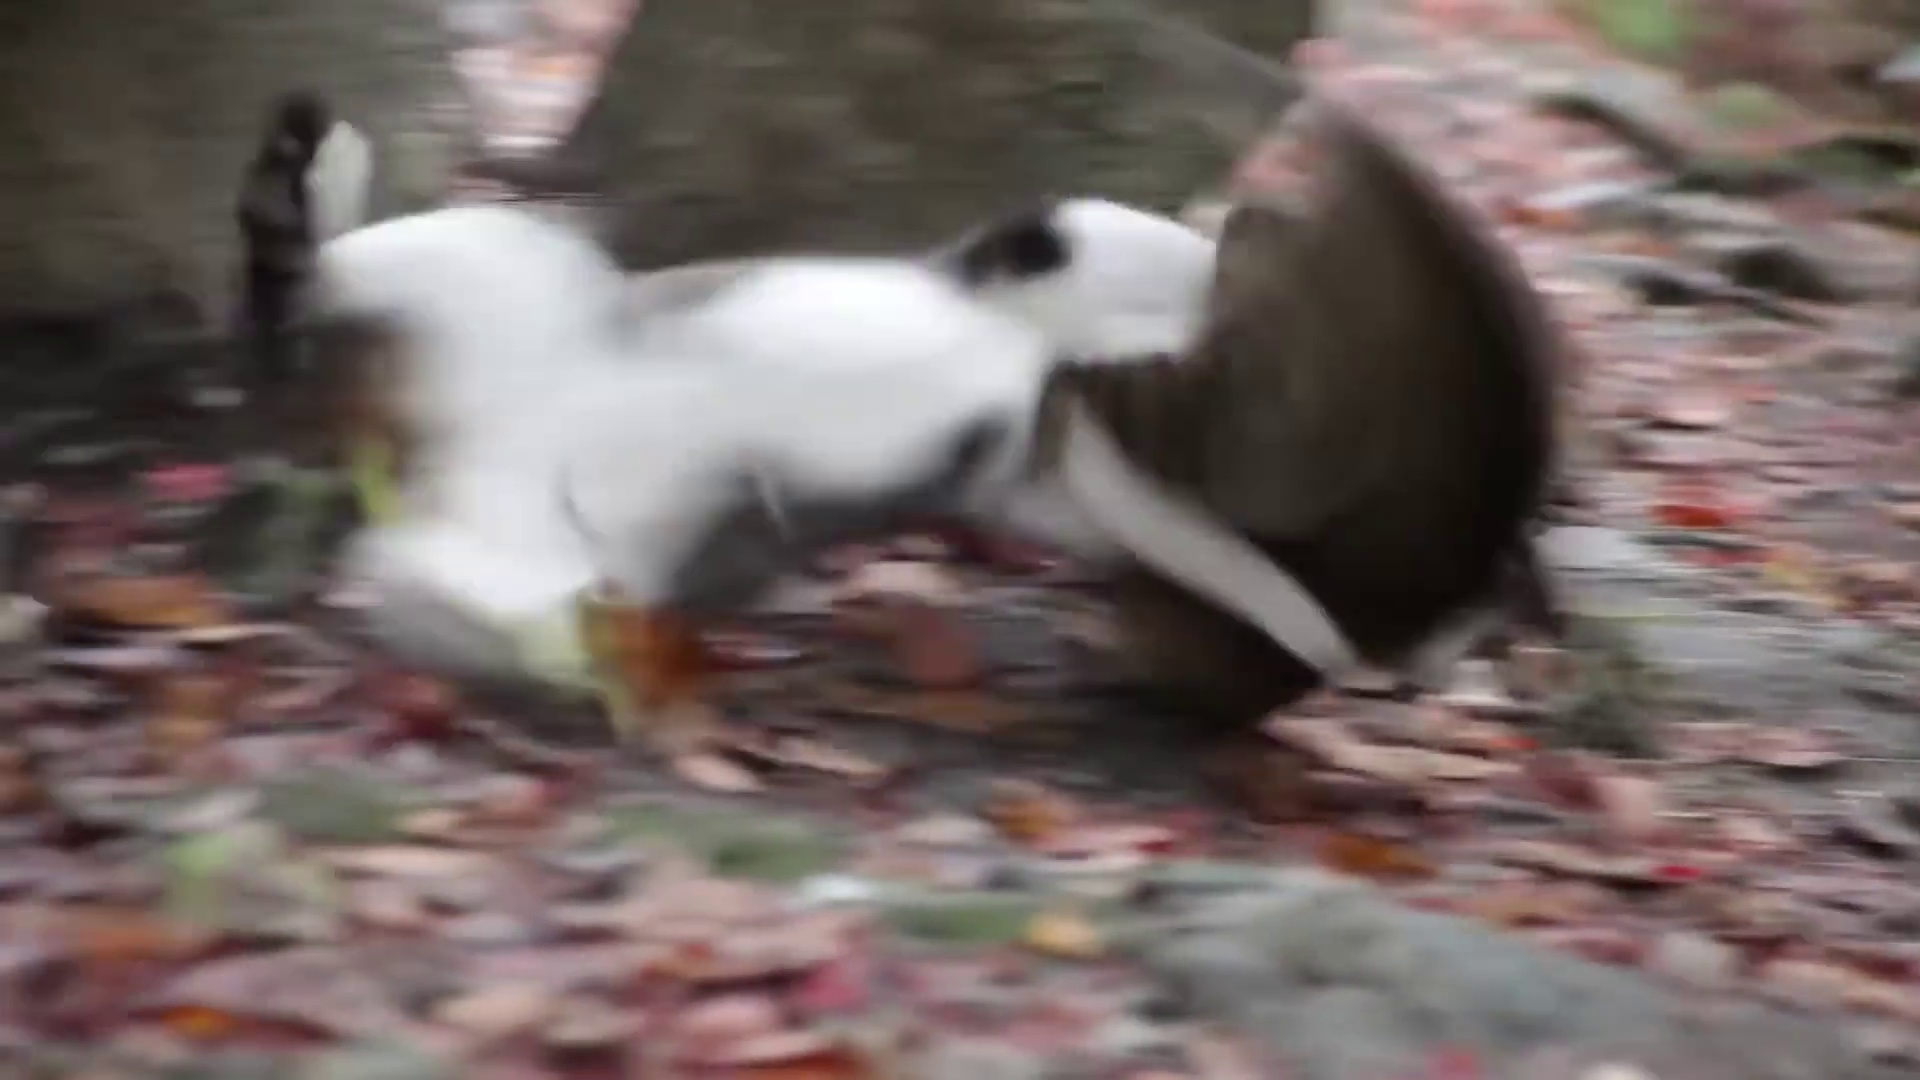black-white: (237, 91, 1215, 680)
pure black: (1034, 121, 1551, 746)
